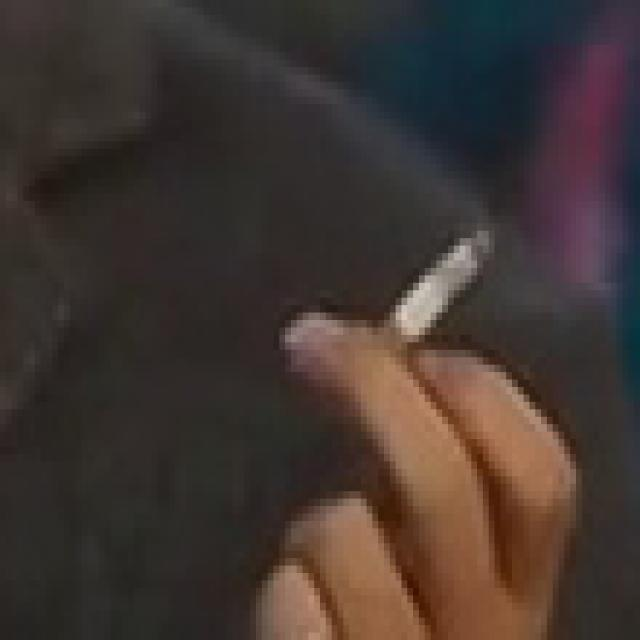smoking: (372, 221, 495, 362)
